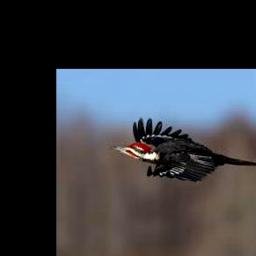Woodpecker: (109, 117, 256, 182)
